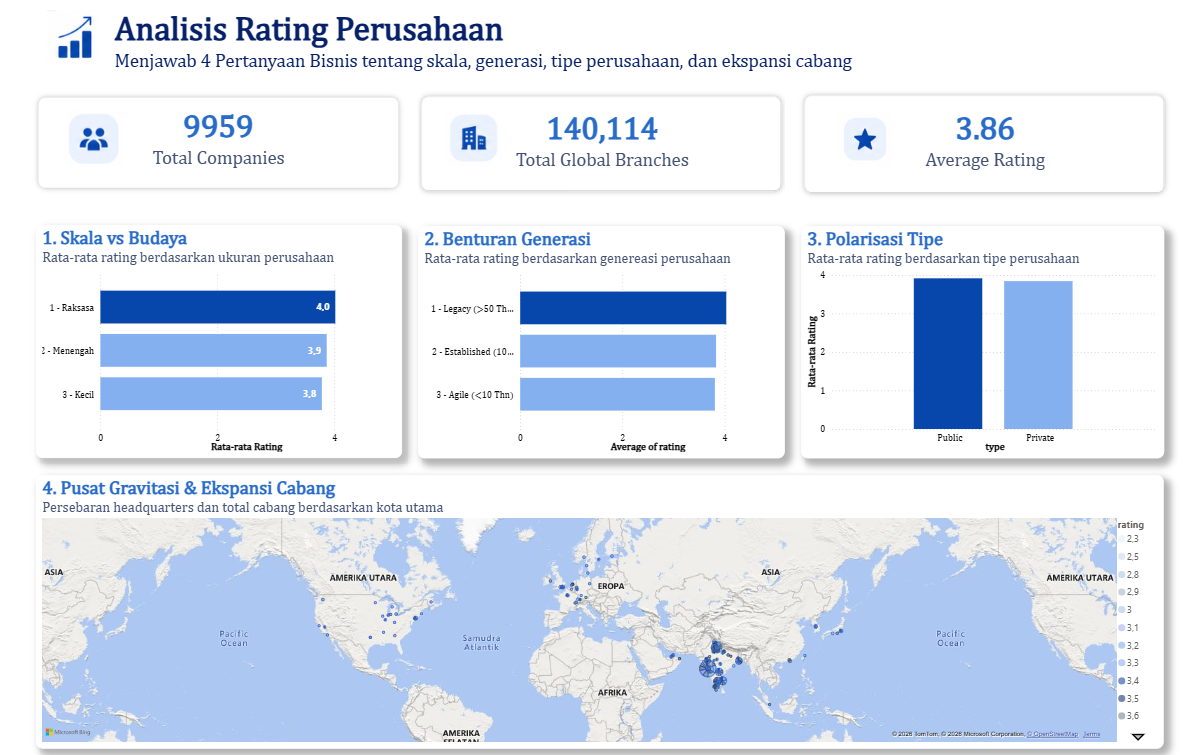

The dashboard page shown, as its layout file describes it:
{"tool":"powerbi","page":{"name":"Page 1","canvas":[1720,1080],"ordinal":0},"visuals":[{"type":"clusteredBarChart","title":"1. Skala vs Budaya","fields":{"Category":["ambitionbox_cleaned_v4.Company Size"],"Y":["Avg(ambitionbox_cleaned_v4.rating)"]},"box":[51.4,321.4,522.9,332.9],"z":0},{"type":"map","title":"4. Pusat Gravitasi & Ekspansi Cabang","fields":{"Category":["ambitionbox_cleaned_v4.hq_main"],"Size":["Sum(ambitionbox_cleaned_v4.hq_branches)"],"Series":["ambitionbox_cleaned_v4.rating"]},"box":[51.4,678.6,1611.4,391.4],"z":1000},{"type":"cardVisual","fields":{"Data":["ambitionbox_cleaned_v4.Total Hq_Main"]},"box":[574.3,110,570,191.4],"z":2000},{"type":"cardVisual","title":"ddd","fields":{"Data":["ambitionbox_cleaned_v4.Total Companies"]},"box":[27,112,570,185],"z":3000},{"type":"cardVisual","fields":{"Data":["ambitionbox_cleaned_v4.Avg Rating"]},"box":[1121.7,108.3,570,195],"z":4000},{"type":"clusteredBarChart","title":"2. Benturan Generasi","fields":{"Category":["ambitionbox_cleaned_v4.Company Generation"],"Y":["Avg(ambitionbox_cleaned_v4.rating)"]},"box":[597.1,322.9,524.3,332],"z":5000},{"type":"clusteredColumnChart","title":"3. Polarisasi Tipe","fields":{"Category":["ambitionbox_cleaned_v4.type"],"Y":["Avg(ambitionbox_cleaned_v4.rating)"]},"box":[1144.3,322.9,518.6,332],"z":6000},{"type":"group","id":"g1","title":"Group 1","box":[52.9,11.4,1214.3,100],"z":7000},{"type":"textbox","box":[158.6,11.4,1108.6,100],"z":7000,"group":"g1"},{"type":"image","box":[52.9,13.9,102.7,75.9],"z":8000,"group":"g1"},{"type":"image","box":[93.3,158.7,83.3,79.3],"z":8000},{"type":"image","box":[636,158.7,83.3,79.3],"z":9000},{"type":"image","box":[1193.8,158.8,82.5,78.8],"z":10000}]}

Visuals, with their boxes in screenshot pixels (x1, y1, x2, y2), scaled from the page's 1720x1080 canvas onto the 1203x755 screenshot:
"1. Skala vs Budaya" clusteredBarChart: (x1=36, y1=225, x2=402, y2=457)
"4. Pusat Gravitasi & Ekspansi Cabang" map: (x1=36, y1=474, x2=1163, y2=748)
cardVisual - ambitionbox_cleaned_v4.Total Hq_Main: (x1=402, y1=77, x2=800, y2=211)
"ddd" cardVisual: (x1=19, y1=78, x2=418, y2=208)
cardVisual - ambitionbox_cleaned_v4.Avg Rating: (x1=785, y1=76, x2=1183, y2=212)
"2. Benturan Generasi" clusteredBarChart: (x1=418, y1=226, x2=784, y2=458)
"3. Polarisasi Tipe" clusteredColumnChart: (x1=800, y1=226, x2=1163, y2=458)
"Group 1" group: (x1=37, y1=8, x2=886, y2=78)
textbox: (x1=111, y1=8, x2=886, y2=78)
image: (x1=37, y1=10, x2=109, y2=63)
image: (x1=65, y1=111, x2=124, y2=166)
image: (x1=445, y1=111, x2=503, y2=166)
image: (x1=835, y1=111, x2=893, y2=166)
